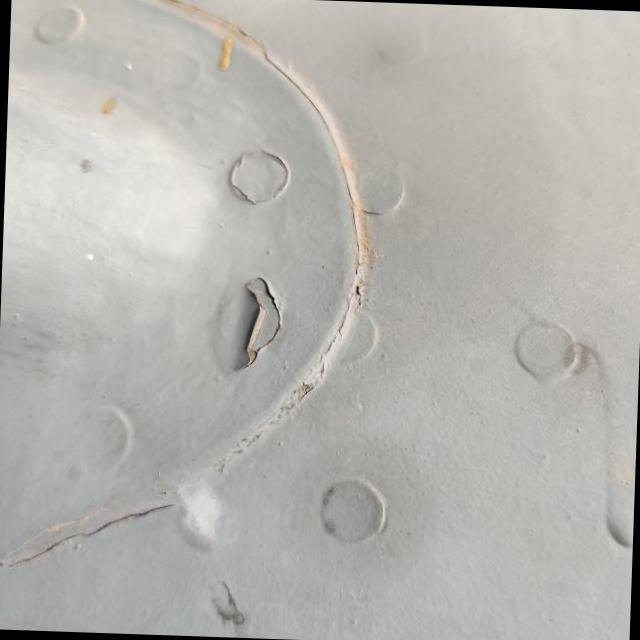Paint-off: (210, 274, 286, 382)
